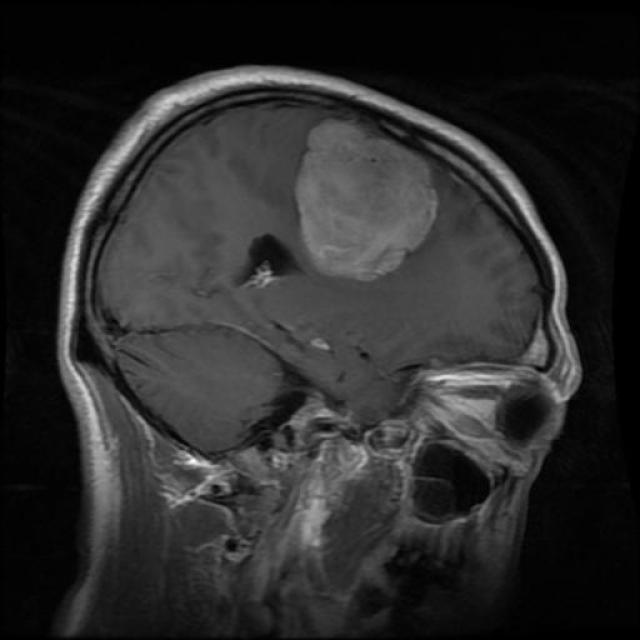meningioma: (295, 121, 439, 280)
